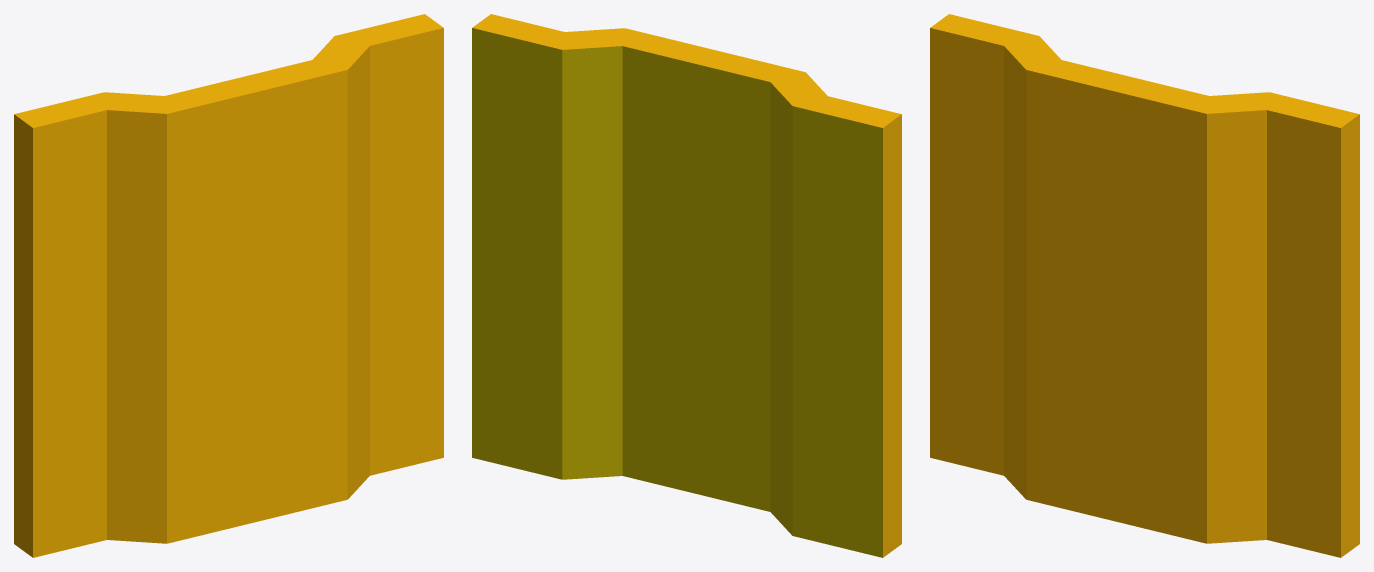
The model's file is sp_corrugated_panel_b.dae.
The picture shows the model from 3 angles, left to right: view 1: azimuth 30°, elevation 25°; view 2: azimuth 150°, elevation 25°; view 3: azimuth 330°, elevation 25°; orthographic projection.
Parts seen in each view (by area): view 1: corrugated_panel_b; view 2: corrugated_panel_b; view 3: corrugated_panel_b.
Part boxes in pixels (x1,y1,x2,y2): corrugated_panel_b: (14,14,443,557); corrugated_panel_b: (472,14,901,557); corrugated_panel_b: (930,14,1359,557).
Bounding box in the file's own units: 0.25 × 0.04 × 0.25.
